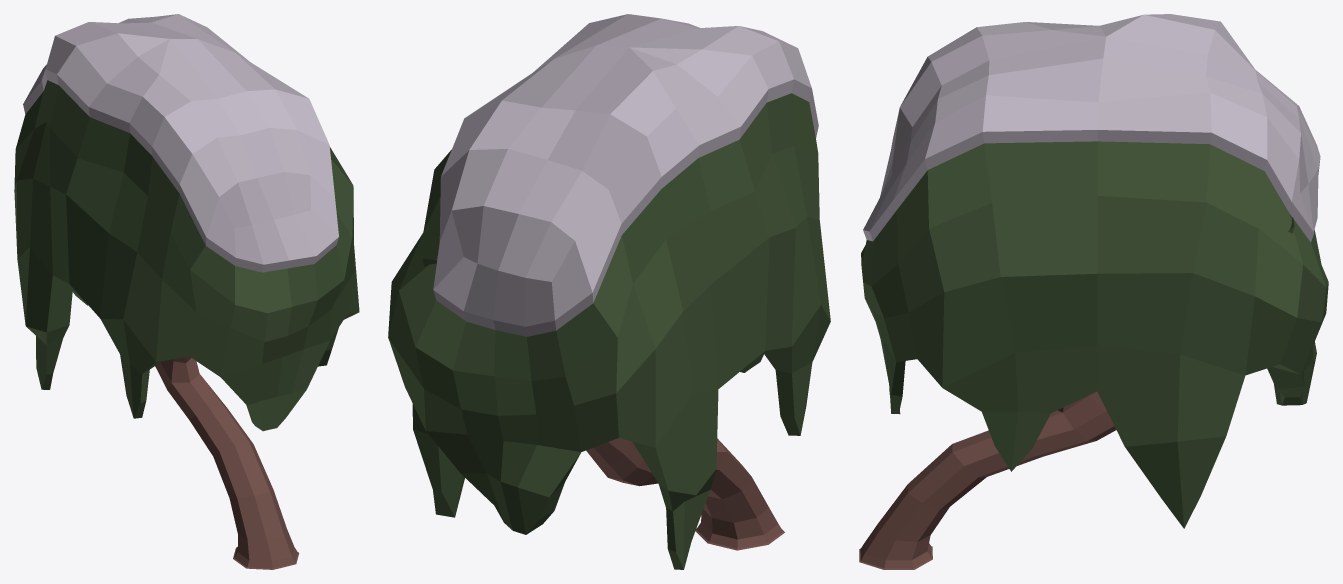
Rendered from willow_snow.glb.
3 renders of one model, left to right at view 1: azimuth 30°, elevation 25°; view 2: azimuth 150°, elevation 25°; view 3: azimuth 270°, elevation 25°, orthographic. The views are drawn at different scales.
Parts seen in each view (by area): view 1: Willow_Snow_3; view 2: Willow_Snow_3; view 3: Willow_Snow_3.
Part boxes in pixels (left/top/right/bottom): Willow_Snow_3: left=14, top=14, right=359, bottom=569; Willow_Snow_3: left=388, top=14, right=830, bottom=569; Willow_Snow_3: left=859, top=14, right=1328, bottom=569.
Size of the model in its own units: 1.32 by 2.41 by 1.98.
